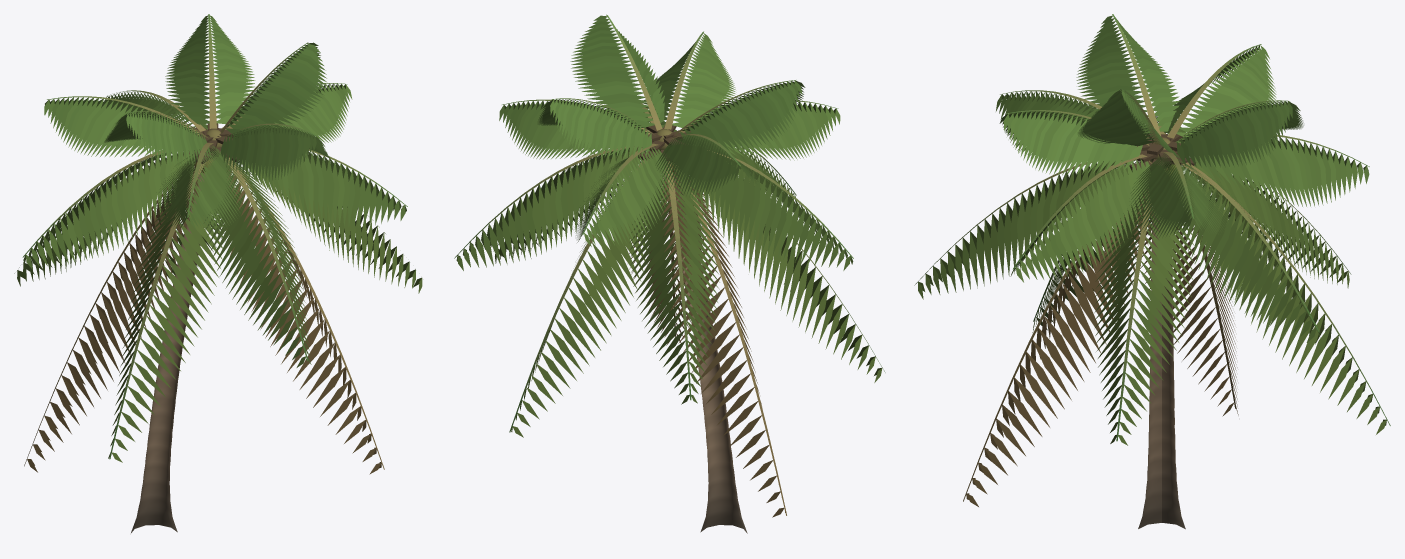
Rendered from mainsail-palm.glb.
3 renders of one model, left to right at view 1: azimuth 30°, elevation 25°; view 2: azimuth 150°, elevation 25°; view 3: azimuth 270°, elevation 25°, orthographic. The views are drawn at different scales.
Visible parts, largest first — view 1: palm leaf, palm bark; view 2: palm leaf, palm bark; view 3: palm leaf, palm bark.
Part boxes in pixels (left/top/right/bottom): palm leaf: left=14, top=14, right=422, bottom=474; palm bark: left=131, top=123, right=239, bottom=532; palm leaf: left=454, top=14, right=885, bottom=517; palm bark: left=637, top=125, right=747, bottom=533; palm leaf: left=914, top=14, right=1390, bottom=506; palm bark: left=1129, top=134, right=1195, bottom=529.
Size of the model in its own units: 6.76 by 8.01 by 6.68.
